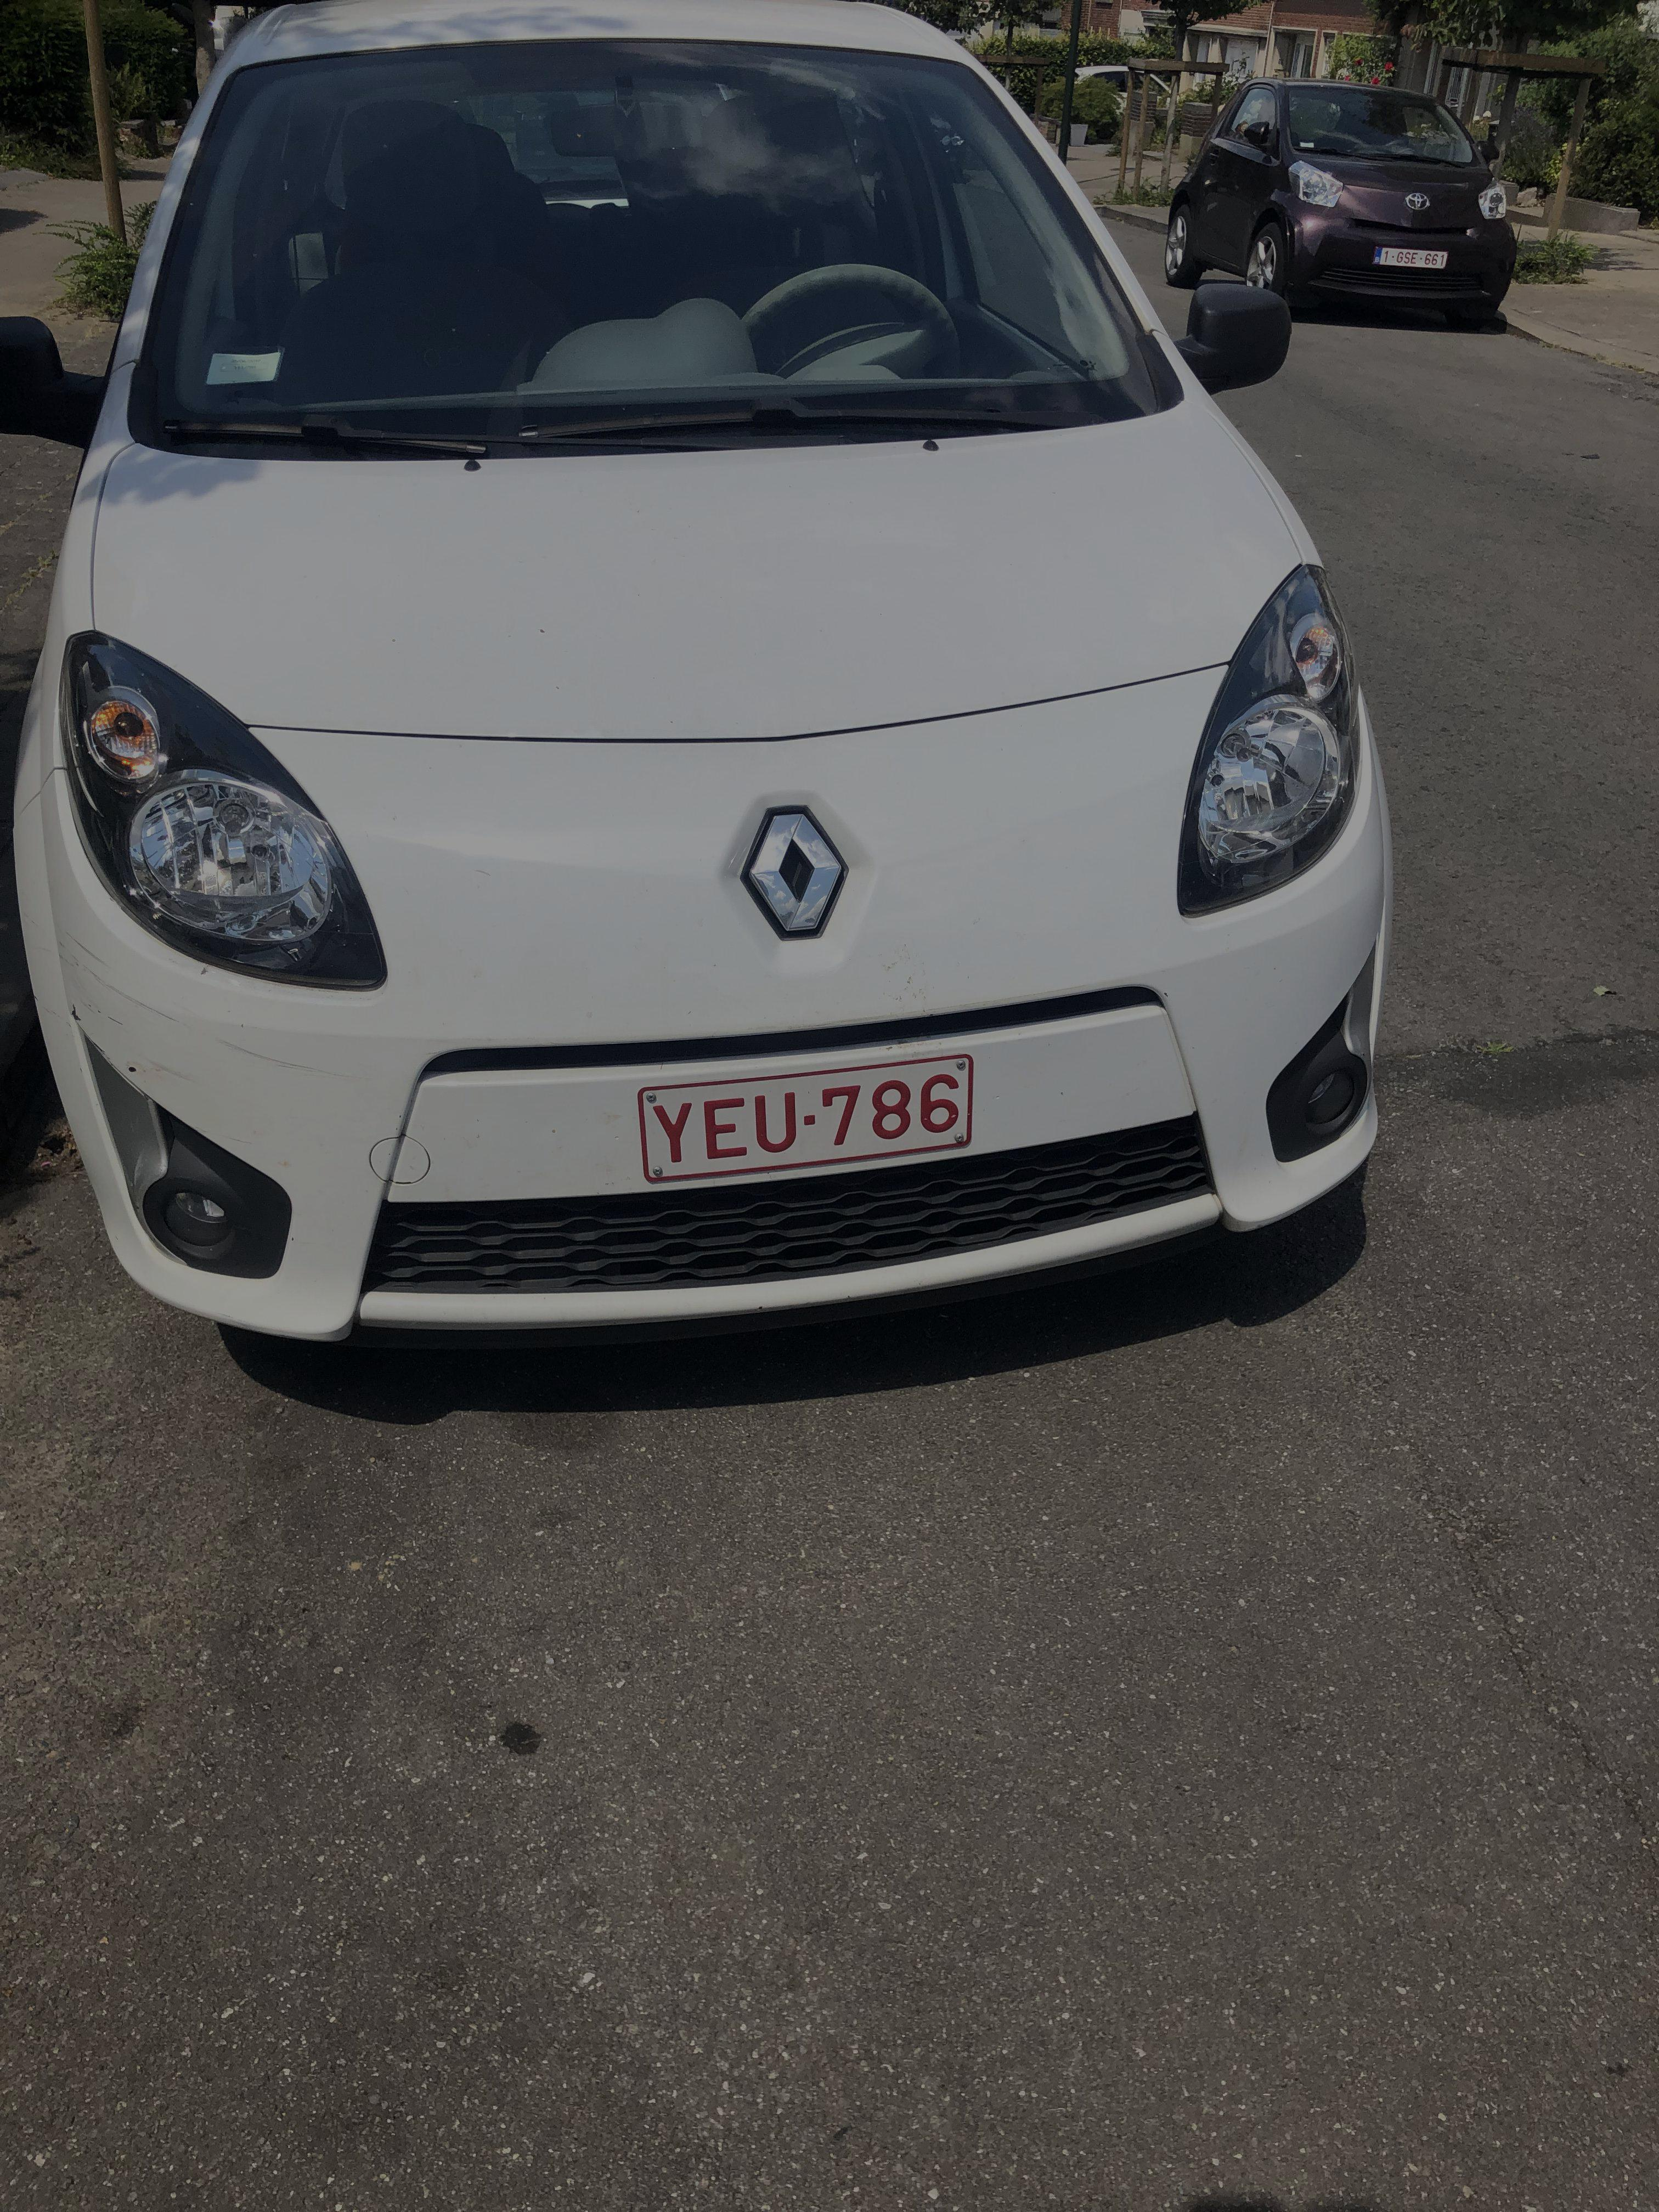plate: (606, 1020, 997, 1217)
